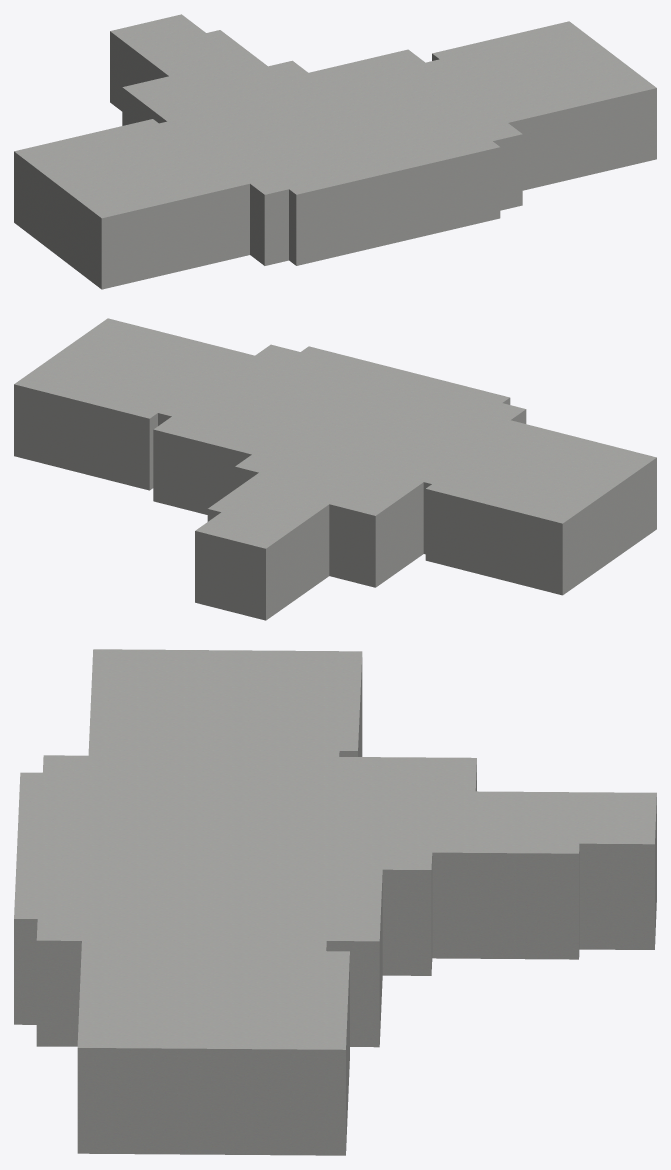
The picture shows the model from 3 angles, top to bottom: view 1: azimuth 30°, elevation 25°; view 2: azimuth 150°, elevation 25°; view 3: azimuth 270°, elevation 25°; orthographic projection. The views are drawn at different scales.
Visible parts, largest first — view 1: DFW_Airport_Fire_Station_5_be157ab8_7; view 2: DFW_Airport_Fire_Station_5_be157ab8_7; view 3: DFW_Airport_Fire_Station_5_be157ab8_7.
Part boxes in pixels (x1,y1,x2,y2): DFW_Airport_Fire_Station_5_be157ab8_7: (14, 14, 656, 289); DFW_Airport_Fire_Station_5_be157ab8_7: (14, 318, 656, 620); DFW_Airport_Fire_Station_5_be157ab8_7: (14, 649, 656, 1155).
Size of the model in its own units: 81.15 by 10 by 55.05.
Materials: 2 (2 with a texture image).
